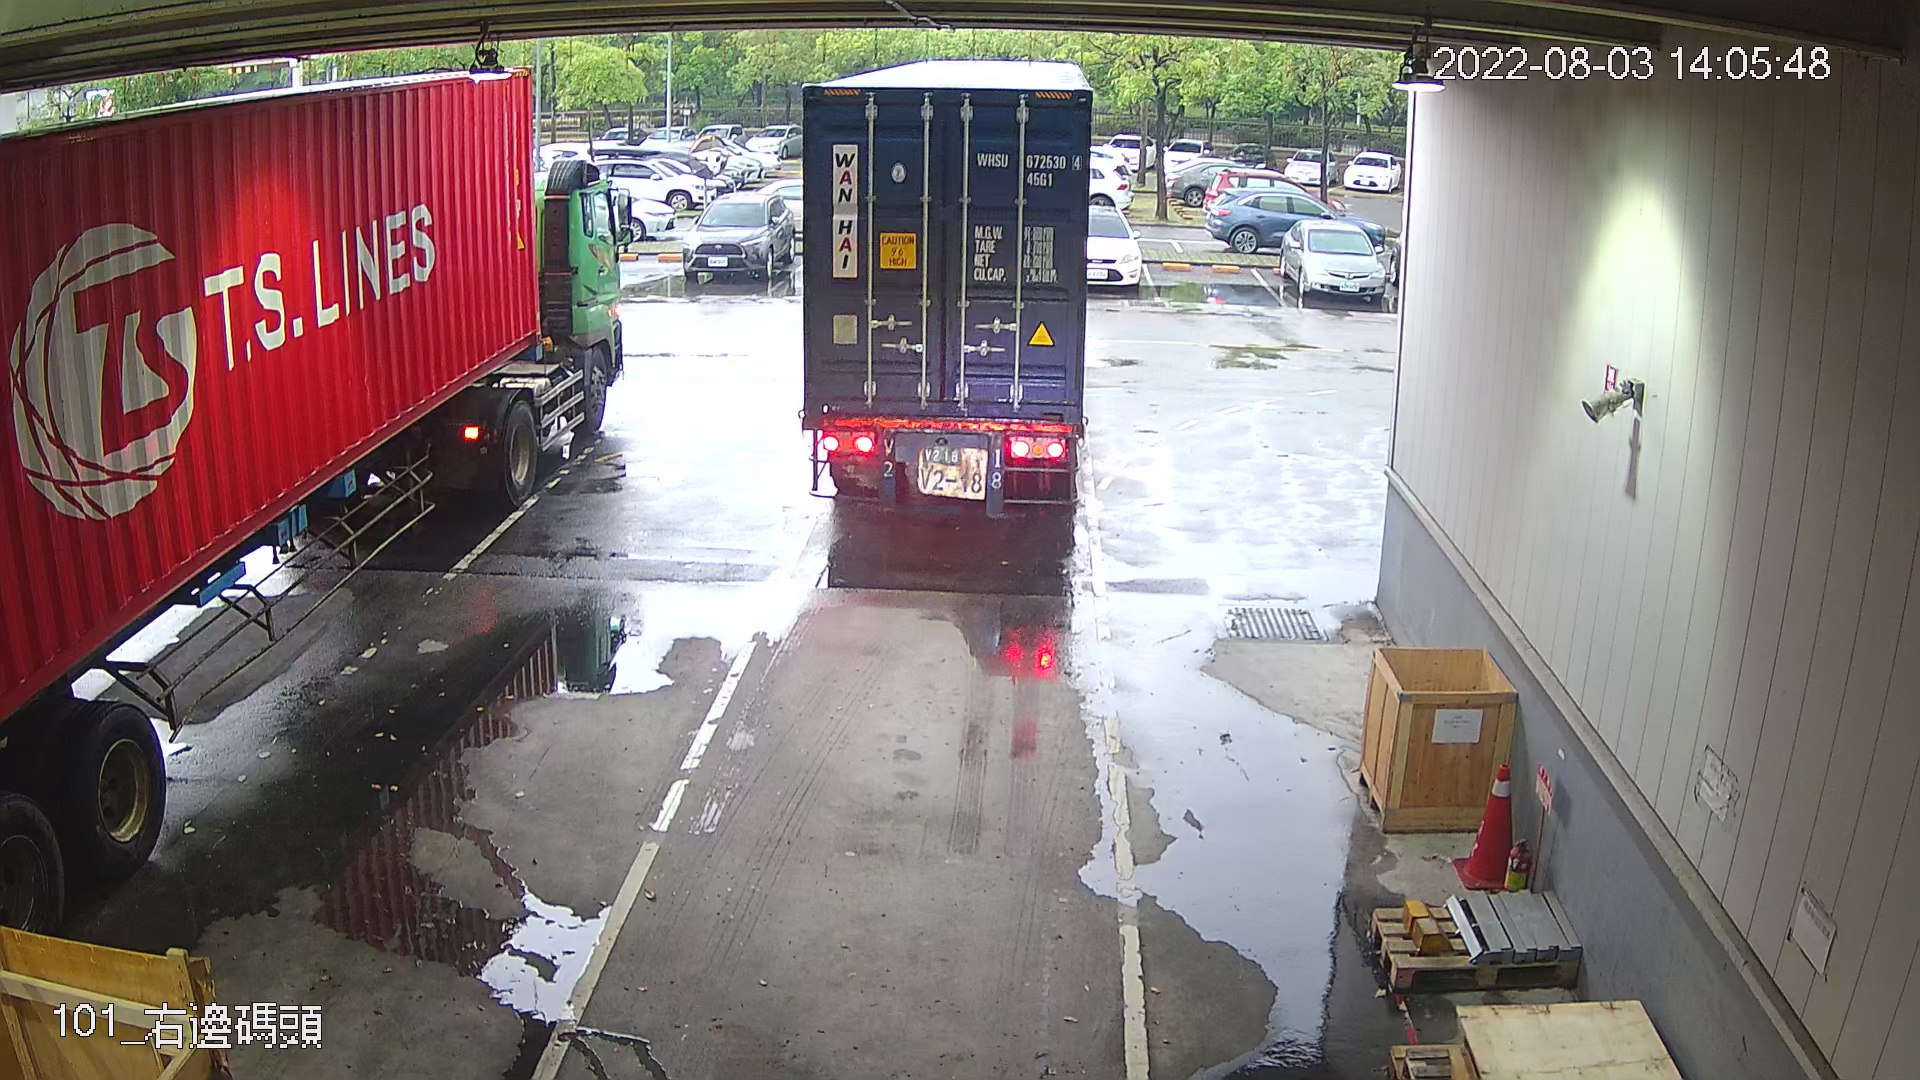container: (972, 136, 1085, 198)
